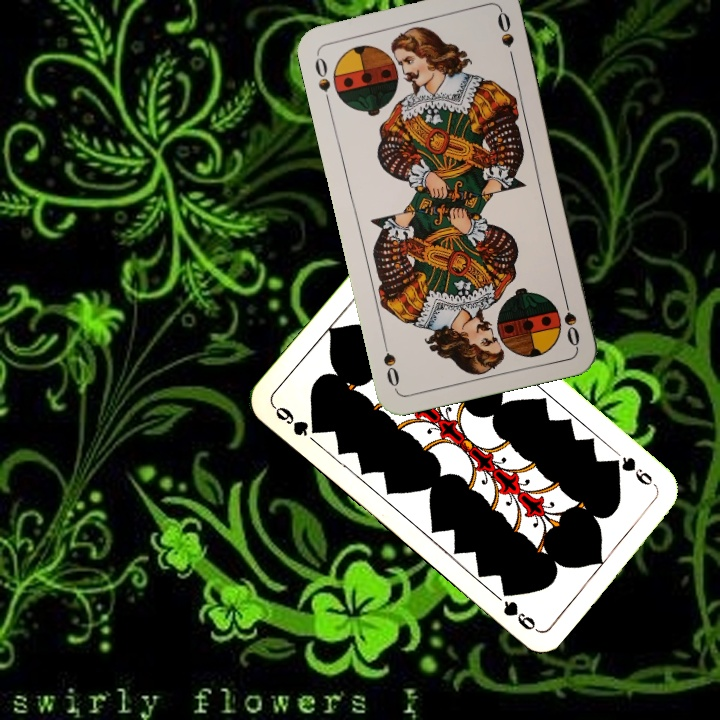G9: (269, 401, 324, 439), (606, 453, 660, 490)
SO: (559, 290, 582, 349), (311, 49, 333, 108)
